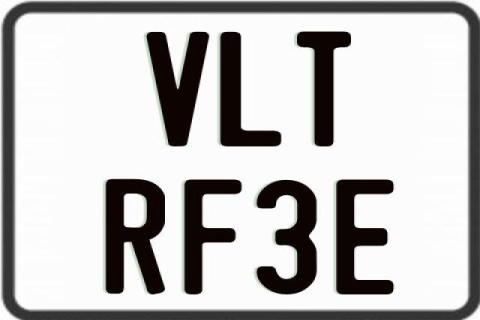0: (254, 180, 314, 298)
E: (335, 180, 395, 296)
F: (184, 178, 246, 294)
L: (217, 32, 282, 147)
R: (105, 178, 168, 298)
T: (297, 29, 357, 145)
V: (146, 29, 214, 149)
